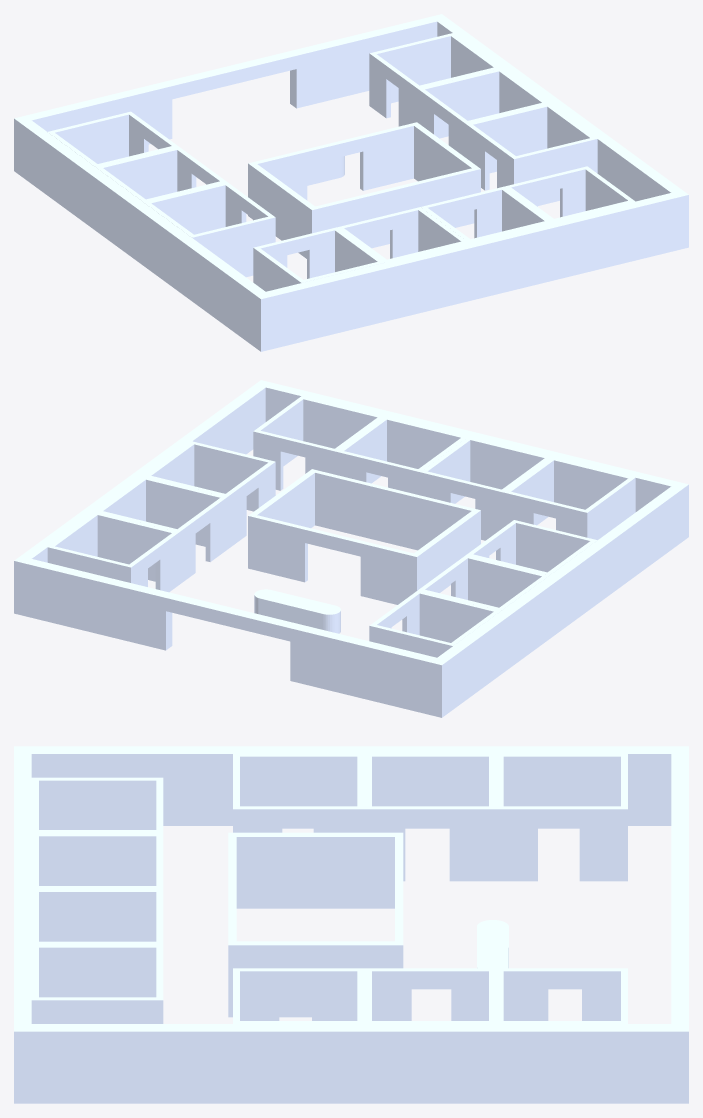
File: pet-hospital-1.glb
The picture shows the model from 3 angles, top to bottom: view 1: azimuth 30°, elevation 25°; view 2: azimuth 150°, elevation 25°; view 3: azimuth 270°, elevation 25°; orthographic projection. The views are drawn at different scales.
Parts seen in each view (by area): view 1: 平面, 平面.011, 平面.003, 平面.006, 平面.002, 平面.004, 平面.008, 平面.007, 平面.005, 平面.009, 平面.010, 平面.001 (+1 smaller); view 2: 平面, 平面.011, 平面.008, 平面.002, 平面.004, 平面.010, 平面.001, 平面.003, 平面.009, 平面.007, 平面.006, 平面.005 (+1 smaller); view 3: 平面, 平面.011, 平面.007, 平面.005, 平面.001, 平面.006, 平面.008, 平面.009, 平面.010, 平面.003, 平面.002, 平面.004 (+1 smaller).
Boxes of the visible parts, x1,y1,x2,y2 form: 平面: (14, 14, 688, 351); 平面.011: (248, 122, 480, 258); 平面.003: (466, 103, 597, 205); 平面.006: (144, 182, 275, 277); 平面.002: (369, 33, 500, 126); 平面.004: (417, 68, 548, 157); 平面.008: (253, 227, 384, 291); 平面.007: (48, 111, 178, 166); 平面.005: (96, 147, 226, 202); 平面.009: (421, 186, 551, 242); 平面.010: (337, 207, 467, 262); 平面.001: (504, 166, 635, 221); 平面: (14, 380, 688, 717); 平面.011: (248, 469, 480, 604); 平面.008: (503, 457, 635, 540); 平面.002: (47, 512, 179, 592); 平面.004: (96, 476, 227, 584); 平面.010: (420, 437, 551, 540); 平面.001: (253, 396, 384, 490); 平面.003: (144, 441, 275, 548); 平面.009: (336, 416, 467, 495); 平面.007: (369, 590, 500, 657); 平面.006: (466, 520, 597, 575); 平面.005: (418, 555, 549, 610); 平面: (14, 746, 688, 1103); 平面.011: (228, 832, 403, 1017); 平面.007: (496, 753, 627, 881); 平面.005: (364, 753, 496, 881); 平面.001: (31, 944, 163, 1023); 平面.006: (233, 753, 364, 832); 平面.008: (31, 777, 163, 833); 平面.009: (31, 889, 163, 944); 平面.010: (31, 833, 163, 888); 平面.003: (233, 968, 364, 1023); 平面.002: (496, 968, 627, 1023); 平面.004: (364, 968, 496, 1023).
Size of the model in its own units: 42.04 by 5.95 by 42.04.
